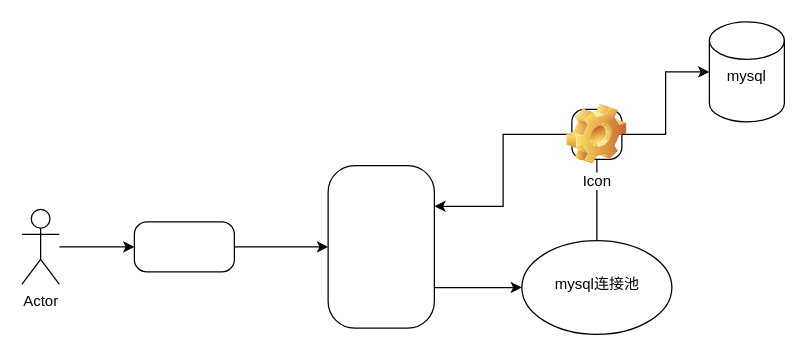
Some shapes in this 806 by 356 pixel diagram are drawn without their labels. The centre of each missing label's shape, as x and y in pixels:
browser: the point at 183,246
web serve nginx+tomcat: the point at 380,246
